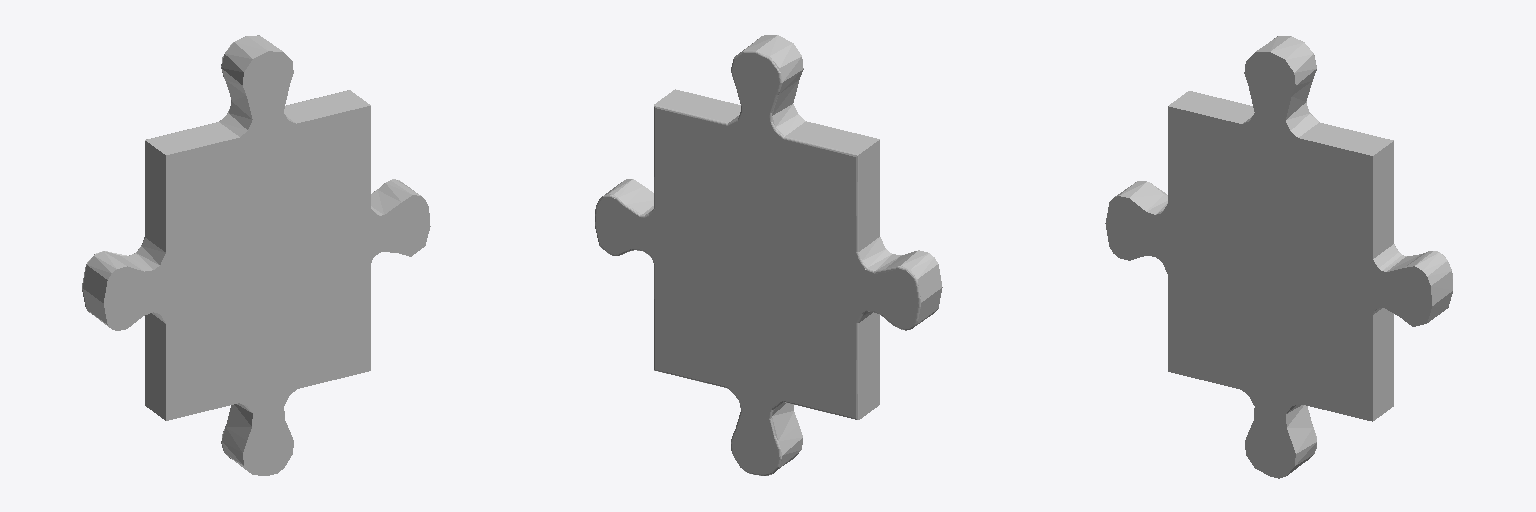
Rendered from puzzle.obj.
3 renders of one model, left to right at view 1: azimuth 30°, elevation 25°; view 2: azimuth 150°, elevation 25°; view 3: azimuth 330°, elevation 25°, orthographic.
Bounding box in the file's own units: 128 × 158 × 15.